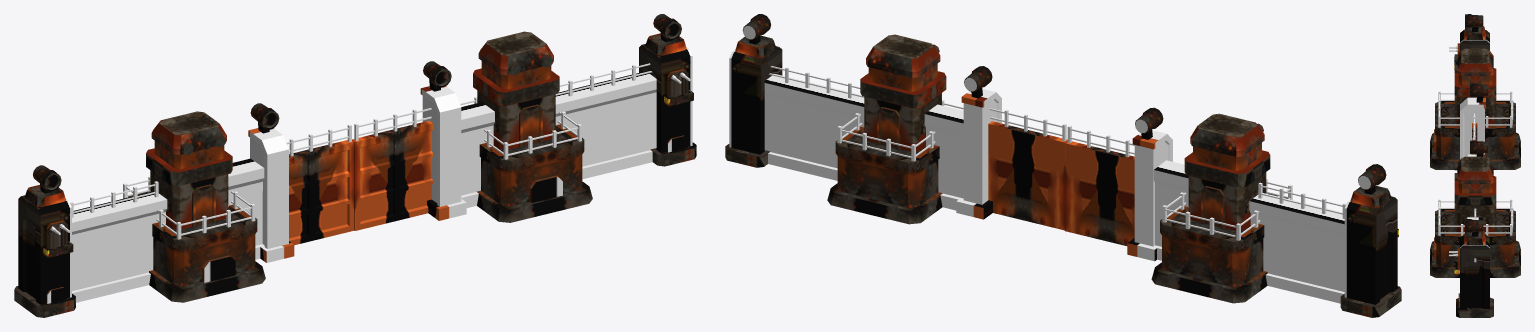
Rendered from chengqiang_03.FBX.
3 views of the same model, side by side, from view 1: azimuth 30°, elevation 25°; view 2: azimuth 150°, elevation 25°; view 3: azimuth 270°, elevation 25° (orthographic). The views are drawn at different scales.
Visible parts, largest first — view 1: chengqiang_03; view 2: chengqiang_03; view 3: chengqiang_03.
Part boxes in pixels (box(x1,y1,x2,y2)): chengqiang_03: box(14, 14, 696, 317); chengqiang_03: box(725, 14, 1401, 317); chengqiang_03: box(1430, 14, 1520, 317).
Size of the model in its own units: 4499 by 794 by 946.
